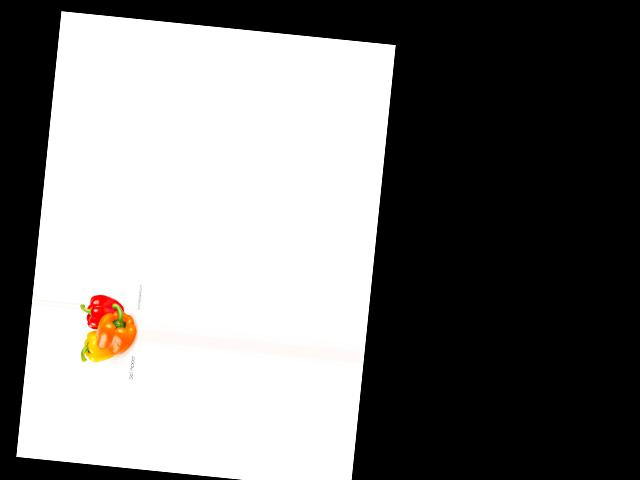bell_pepper: (77, 328, 118, 366)
